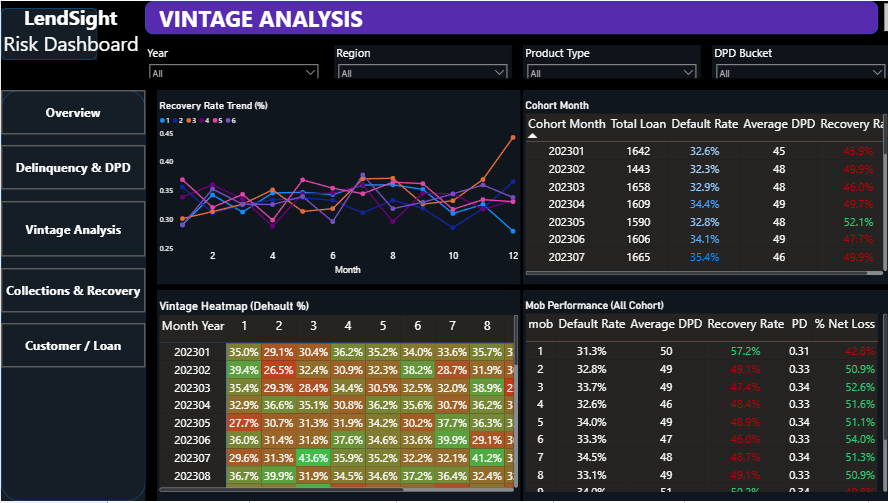

The dashboard page shown, as its layout file describes it:
{"tool":"powerbi","page":{"name":"Vintage Analysis","canvas":[1920,1080],"ordinal":3},"visuals":[{"type":"pageNavigator","box":[0,192,208,64],"z":0},{"type":"tableEx","title":" Cohort Month","fields":{"Values":["Calender.Sort_Month_Year","cr_measures.Total Loan","cr_measures.Default Rate","cr_measures.Average DPD","cr_measures.Recovery Rate"]},"box":[1128,192,792,420],"z":1000},{"type":"shape","box":[0,16,208,112],"z":2000},{"type":"shape","box":[0,192,312,888],"z":3000},{"type":"textbox","box":[0,0,312,168],"z":4000},{"type":"actionButton","box":[0,312,312,96],"z":5000},{"type":"actionButton","box":[0,432,312,120],"z":6000},{"type":"actionButton","box":[0,576,312,96],"z":7000},{"type":"actionButton","box":[0,696,312,96],"z":8000},{"type":"actionButton","box":[0,192,312,96],"z":9000},{"type":"shape","box":[312,0,1584,72],"z":11000},{"type":"slicer","title":"Year","fields":{"Values":["Calender.Year"]},"box":[312,96,384,72],"z":12000},{"type":"slicer","title":"Product Type","fields":{"Values":["credit_risk.product_type"]},"box":[1128,96,384,72],"z":13000},{"type":"slicer","title":"DPD Bucket","fields":{"Values":["credit_risk.DPD Bucket"]},"box":[1536,96,384,72],"z":14000},{"type":"slicer","title":"Region","fields":{"Values":["credit_risk.region"]},"box":[720,96,384,72],"z":15000},{"type":"textbox","box":[336,0,1584,72],"z":16000},{"type":"tableEx","title":" Mob Performance (All Cohort)","fields":{"Values":["credit_risk.mob","cr_measures.Default Rate","cr_measures.Average DPD","cr_measures.Recovery Rate","cr_measures.PD","cr_measures.% Net Loss"]},"box":[1128,624,792,456],"z":17000},{"type":"pivotTable","title":"Vintage Heatmap (Dehault %)","fields":{"Values":["cr_measures.Default Rate"],"Columns":["credit_risk.mob"],"Rows":["Calender.Sort_Month_Year"]},"box":[336,624,785,456],"z":18000},{"type":"lineChart","title":"Recovery Rate Trend (%)","fields":{"Category":["credit_risk.mob"],"Y":["cr_measures.Default Rate"],"Series":["Calender.Month"]},"box":[336,192,785,420],"z":19000}]}

Visuals, with their boxes in screenshot pixels (x1, y1, x2, y2), scaled from the page's 1920x1080 canvas onto the 888x503 screenshot:
pageNavigator: box(0, 89, 96, 119)
" Cohort Month" tableEx: box(522, 89, 887, 285)
shape: box(0, 7, 96, 60)
shape: box(0, 89, 144, 502)
textbox: box(0, 0, 144, 78)
actionButton: box(0, 145, 144, 190)
actionButton: box(0, 201, 144, 257)
actionButton: box(0, 268, 144, 313)
actionButton: box(0, 324, 144, 369)
actionButton: box(0, 89, 144, 134)
shape: box(144, 0, 877, 34)
"Year" slicer: box(144, 45, 322, 78)
"Product Type" slicer: box(522, 45, 699, 78)
"DPD Bucket" slicer: box(710, 45, 887, 78)
"Region" slicer: box(333, 45, 511, 78)
textbox: box(155, 0, 887, 34)
" Mob Performance (All Cohort)" tableEx: box(522, 291, 887, 502)
"Vintage Heatmap (Dehault %)" pivotTable: box(155, 291, 518, 502)
"Recovery Rate Trend (%)" lineChart: box(155, 89, 518, 285)
